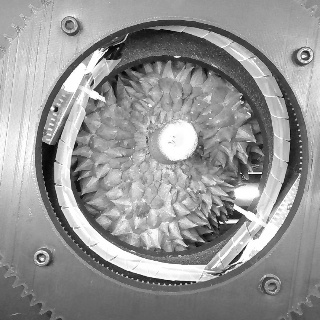base: (143, 120, 187, 170)
end: (158, 119, 199, 161)
